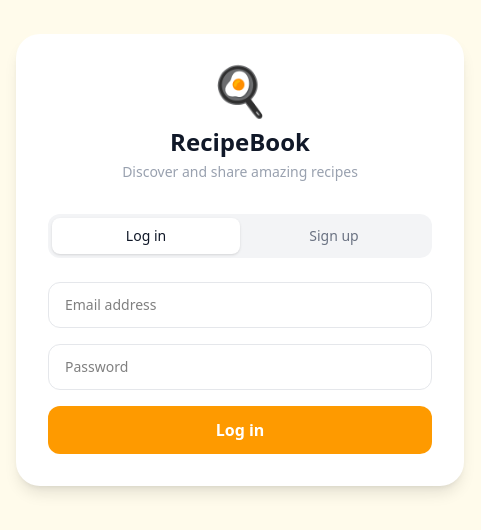
Test case: LoginPage › shows an error and stays on the page when login fails
The width and height of the screenshot is (481, 530).
In the field with placeholder "Email address": (240, 305) x1=48 y1=282 x2=432 y2=328, type "test@example.com"
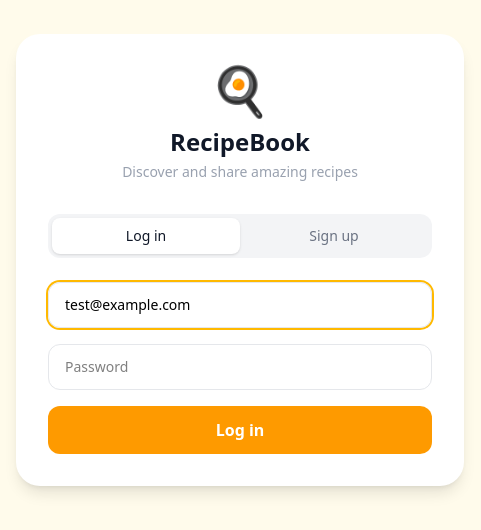
In the password field with placeholder "Password": (240, 367) x1=48 y1=344 x2=432 y2=390, type "wrong"
Then press Enter
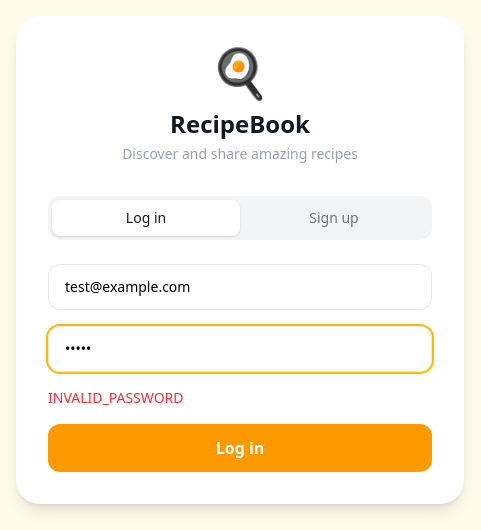
Expected: the text "INVALID_PASSWORD" is shown, x1=48 y1=388 x2=184 y2=407
